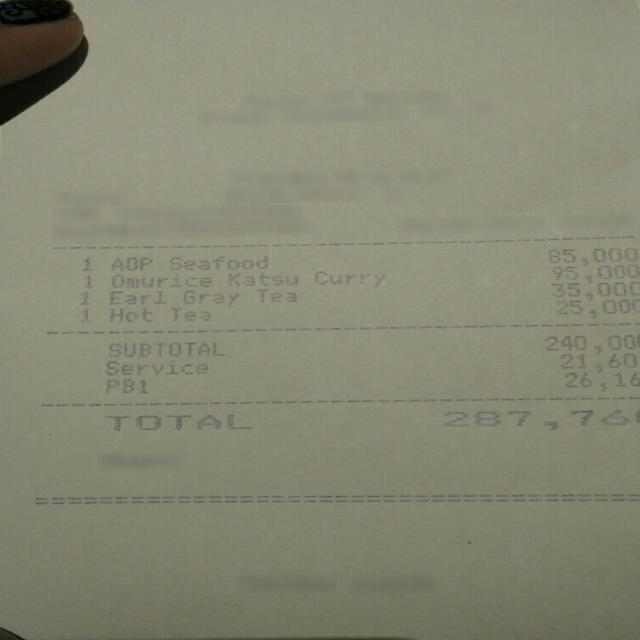text: (437, 408, 628, 430), (103, 413, 250, 429), (106, 340, 223, 356), (543, 335, 638, 354), (550, 281, 638, 300), (555, 298, 638, 318), (546, 247, 638, 265), (557, 352, 636, 372), (105, 359, 206, 374), (167, 255, 270, 269), (550, 266, 639, 282), (109, 274, 210, 288), (563, 372, 638, 390), (226, 272, 296, 290), (314, 270, 384, 287), (180, 290, 237, 306), (108, 290, 167, 305), (109, 307, 155, 322), (110, 257, 152, 271), (169, 307, 210, 321), (106, 378, 146, 392), (256, 288, 294, 302), (78, 307, 91, 323), (81, 255, 92, 271), (82, 273, 93, 289), (78, 291, 90, 305)
